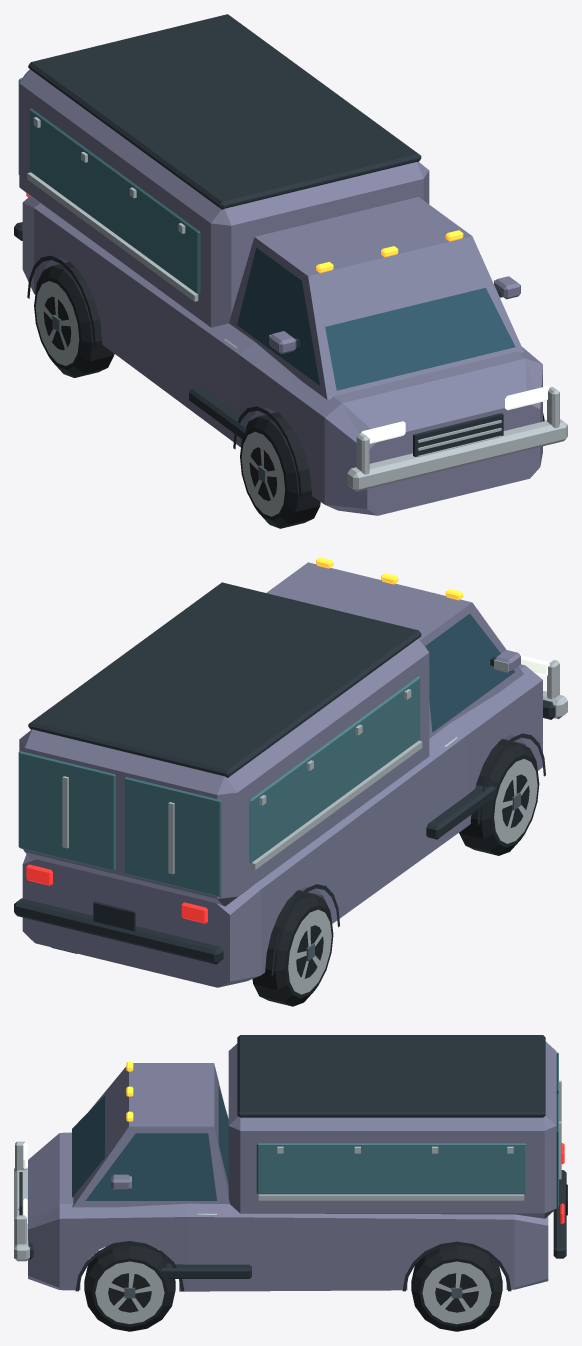
File: armored-boss.glb
3 views of the same model, one above another, from view 1: azimuth 30°, elevation 25°; view 2: azimuth 150°, elevation 25°; view 3: azimuth 270°, elevation 25° (orthographic). The views are drawn at different scales.
Parts seen in each view (by area): view 1: Body_Body_paint, Body_Dark_trim, Body_Blue_tinted_glazing, Body_Accent, Body_Brushed_alloy, Wheel_FL_Tire_rubber, Wheel_RL_Tire_rubber, Wheel_FL_Brushed_alloy, Wheel_RL_Brushed_alloy, Body_Warm_headlamps; view 2: Body_Body_paint, Body_Dark_trim, Body_Accent, Body_Blue_tinted_glazing, Wheel_RL_Tire_rubber, Body_Brushed_alloy, Wheel_FL_Tire_rubber, Wheel_RL_Brushed_alloy, Wheel_FL_Brushed_alloy, Body_Red_lens; view 3: Body_Body_paint, Body_Dark_trim, Body_Accent, Body_Blue_tinted_glazing, Wheel_RR_Tire_rubber, Wheel_FR_Tire_rubber, Body_Brushed_alloy, Wheel_FR_Brushed_alloy, Wheel_RR_Brushed_alloy.
Part boxes in pixels (x1=…): Body_Body_paint: x1=19, y1=69, x2=542, y2=515; Body_Dark_trim: x1=14, y1=14, x2=546, y2=497; Body_Blue_tinted_glazing: x1=237, y1=248, x2=515, y2=390; Body_Accent: x1=18, y1=78, x2=200, y2=294; Body_Brushed_alloy: x1=27, y1=117, x2=567, y2=491; Wheel_FL_Tire_rubber: x1=240, y1=412, x2=320, y2=528; Wheel_RL_Tire_rubber: x1=34, y1=262, x2=114, y2=377; Wheel_FL_Brushed_alloy: x1=241, y1=431, x2=285, y2=516; Wheel_RL_Brushed_alloy: x1=35, y1=281, x2=79, y2=365; Body_Warm_headlamps: x1=361, y1=386, x2=549, y2=443; Body_Body_paint: x1=19, y1=562, x2=542, y2=987; Body_Dark_trim: x1=14, y1=582, x2=555, y2=975; Body_Accent: x1=18, y1=676, x2=420, y2=896; Body_Blue_tinted_glazing: x1=425, y1=613, x2=514, y2=732; Wheel_RL_Tire_rubber: x1=252, y1=890, x2=333, y2=1006; Body_Brushed_alloy: x1=62, y1=660, x2=567, y2=874; Wheel_FL_Tire_rubber: x1=459, y1=739, x2=539, y2=855; Wheel_RL_Brushed_alloy: x1=288, y1=909, x2=331, y2=994; Wheel_FL_Brushed_alloy: x1=494, y1=759, x2=537, y2=843; Body_Red_lens: x1=26, y1=864, x2=207, y2=923; Body_Body_paint: x1=28, y1=1042, x2=556, y2=1291; Body_Dark_trim: x1=19, y1=1035, x2=567, y2=1291; Body_Accent: x1=256, y1=1052, x2=558, y2=1206; Body_Blue_tinted_glazing: x1=72, y1=1086, x2=228, y2=1200; Wheel_RR_Tire_rubber: x1=411, y1=1241, x2=502, y2=1331; Wheel_FR_Tire_rubber: x1=84, y1=1241, x2=175, y2=1331; Body_Brushed_alloy: x1=14, y1=1080, x2=561, y2=1261; Wheel_FR_Brushed_alloy: x1=95, y1=1261, x2=164, y2=1324; Wheel_RR_Brushed_alloy: x1=422, y1=1261, x2=491, y2=1324.
Bounding box in the file's own units: 2.37 × 2.36 × 5.59.
